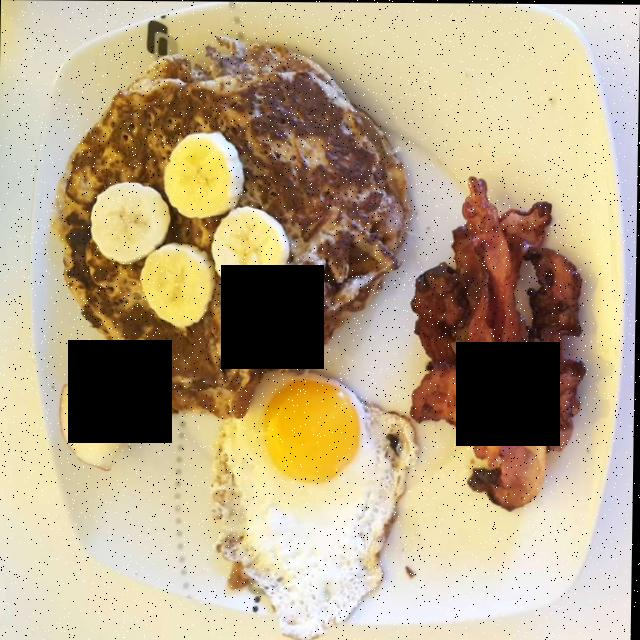bacon-frying: (411, 193, 596, 493)
banana: (103, 116, 282, 318)
egg: (218, 378, 430, 625)
pancakes: (50, 47, 400, 422)
